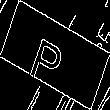P_NE: (35, 24, 75, 86)
